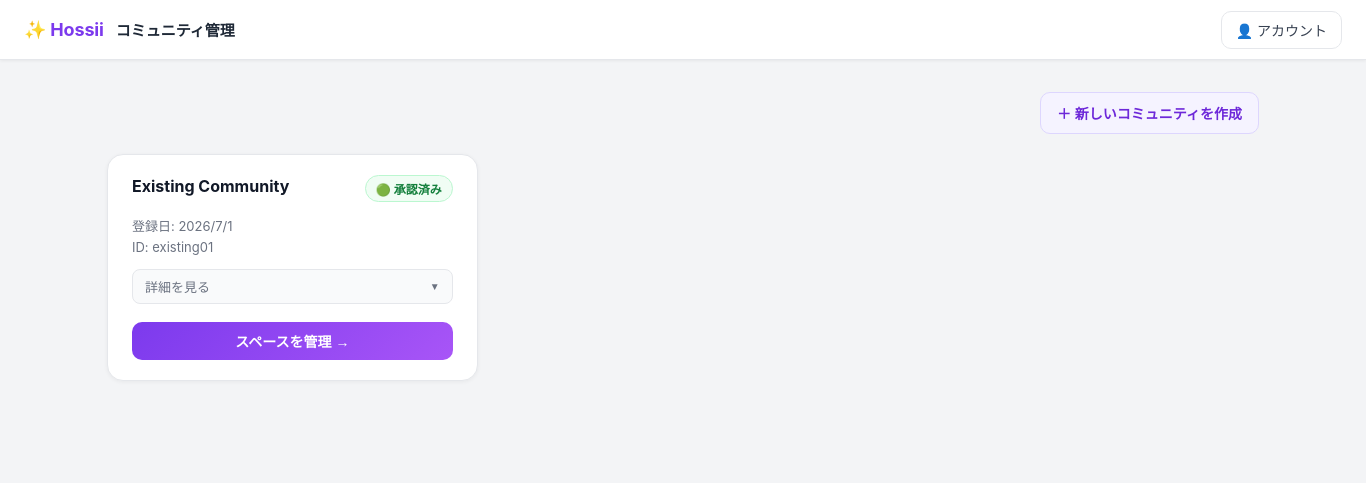
Test: CommunitiesScreen create community › still renders existing list and detail toggle
Check: the heading "Existing Community" is shown, box [132,175,289,197]
Click the button "詳細を見る ▼" at x=178, y=288, box [132,269,453,304]
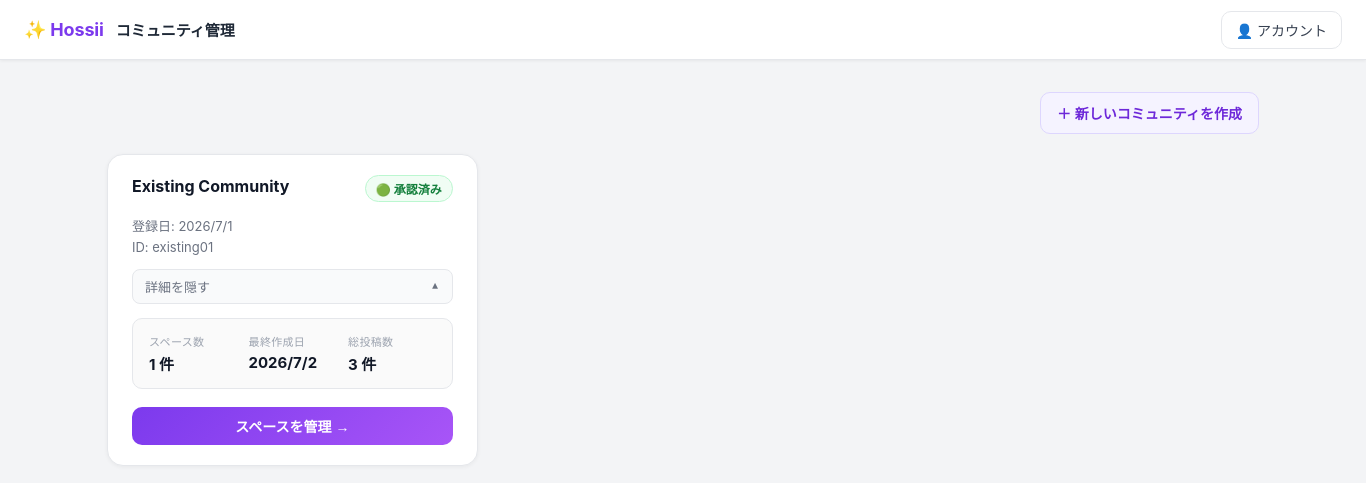
Check: the text "スペース数" is shown, box [149,335,204,349]
